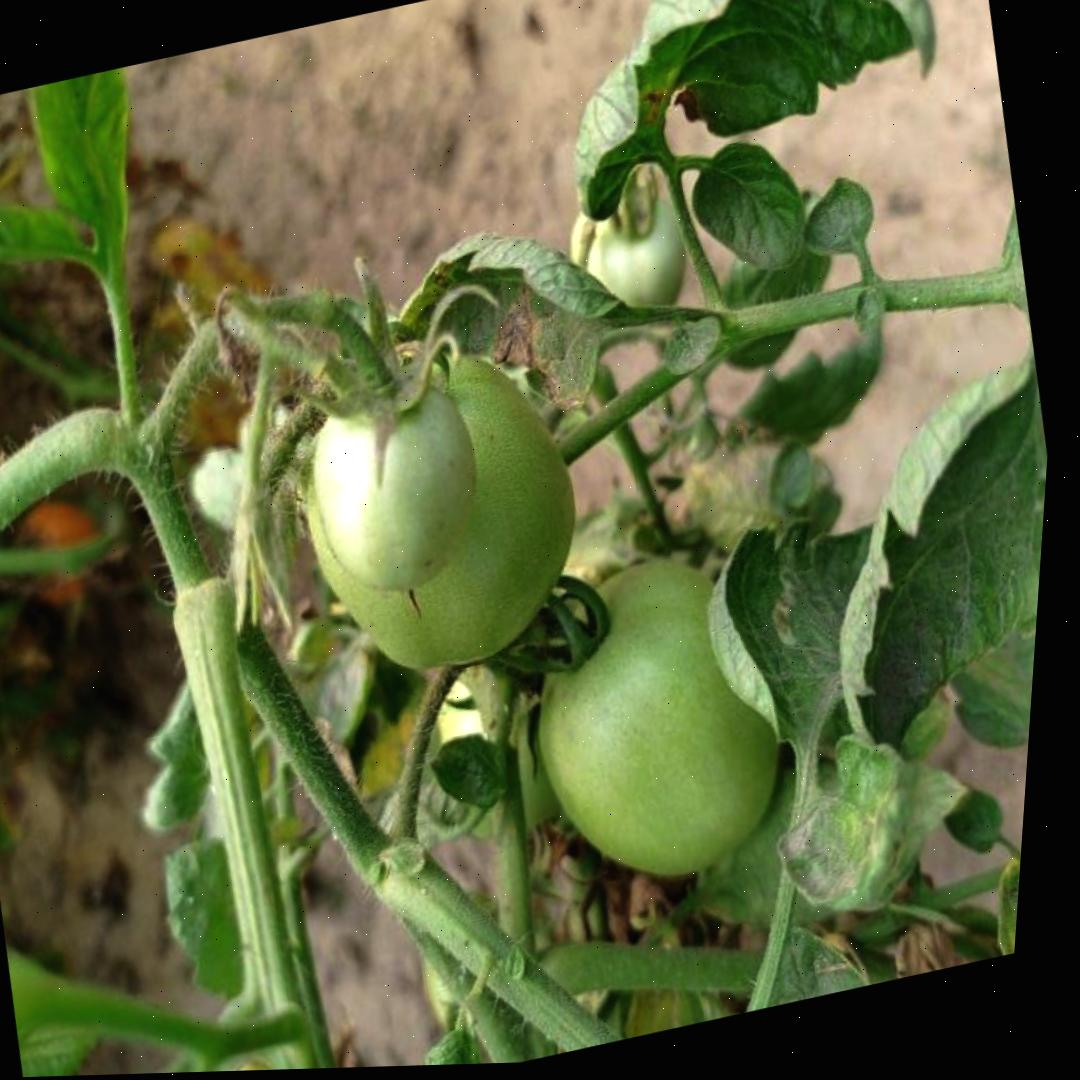mentah: (267, 330, 611, 701), (498, 530, 821, 904), (287, 363, 500, 609)
